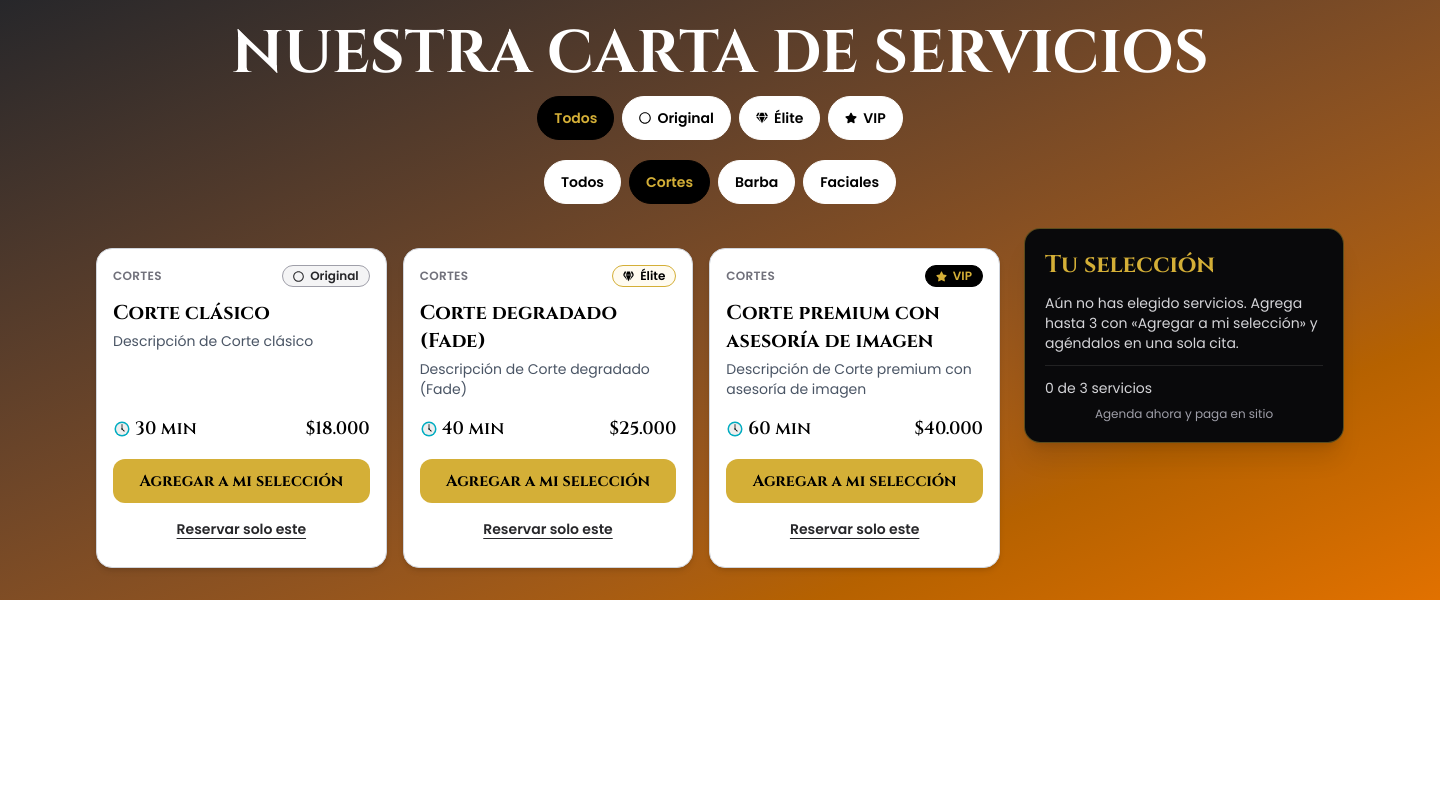
Carta + carrito (integración) › agregar desde las tarjetas alimenta el carrito; el aside está a la derecha y las tarjetas pasan a 3 columnas en xl
This screenshot has width=1440, height=810.
Check: the element named "Filtrar servicios" is shown, box [537,96,903,204]
Click the button "Agregar a mi selección" below "30" at (241, 481), box [113,459,370,503]
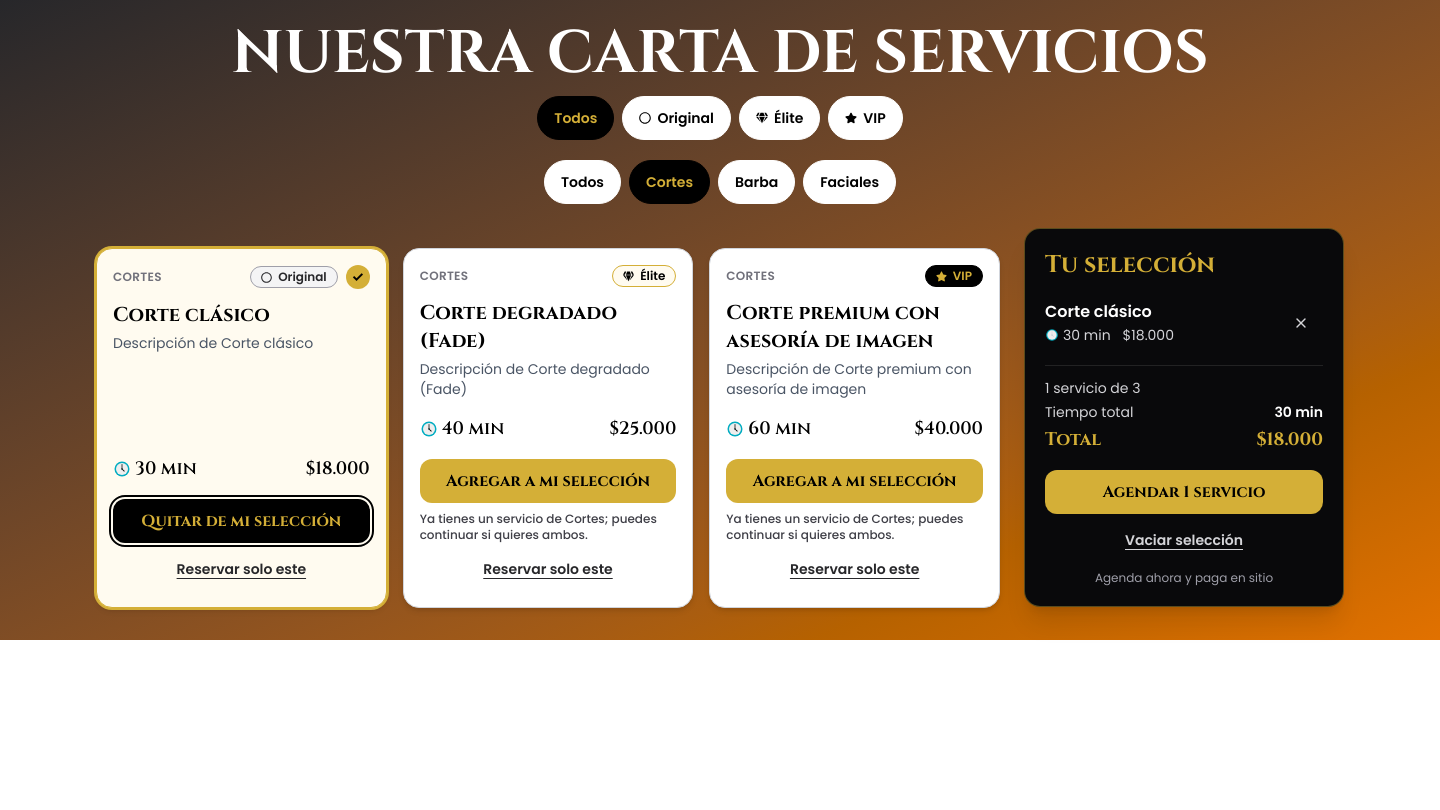
Click the button "Agregar a mi selección" below "$25.000" at (548, 481), box [420,459,676,503]
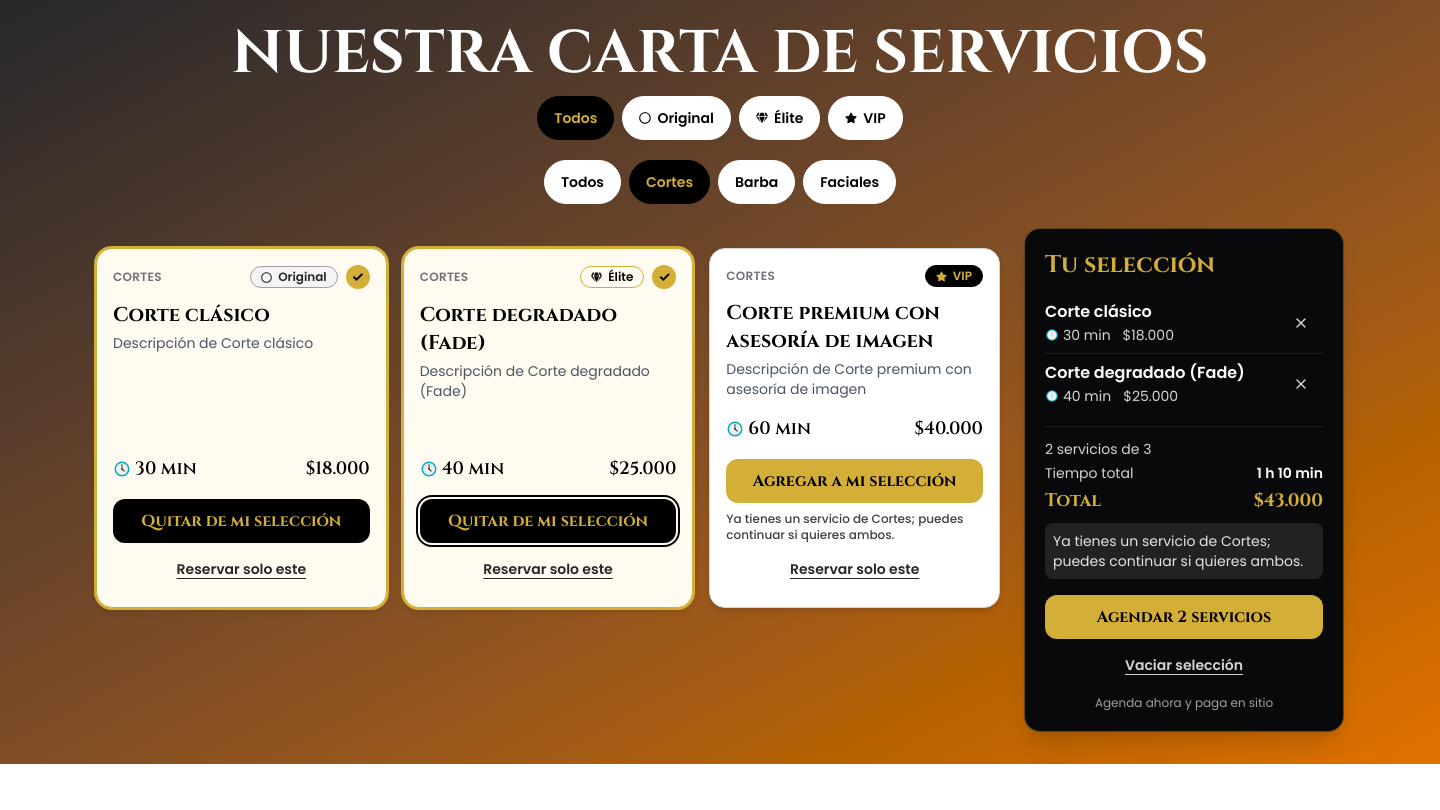
Check: the text "2 servicios de 3" is shown, box [1045,439,1151,459]
